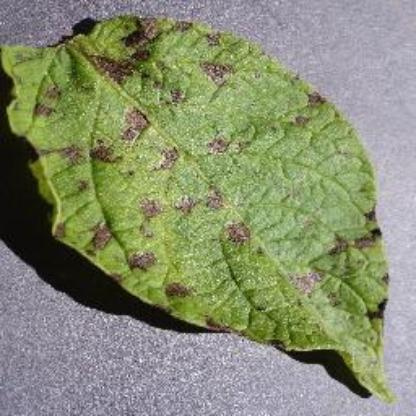Early-Blight: (0, 11, 396, 403)
